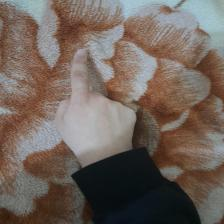one: (55, 43, 143, 156)
